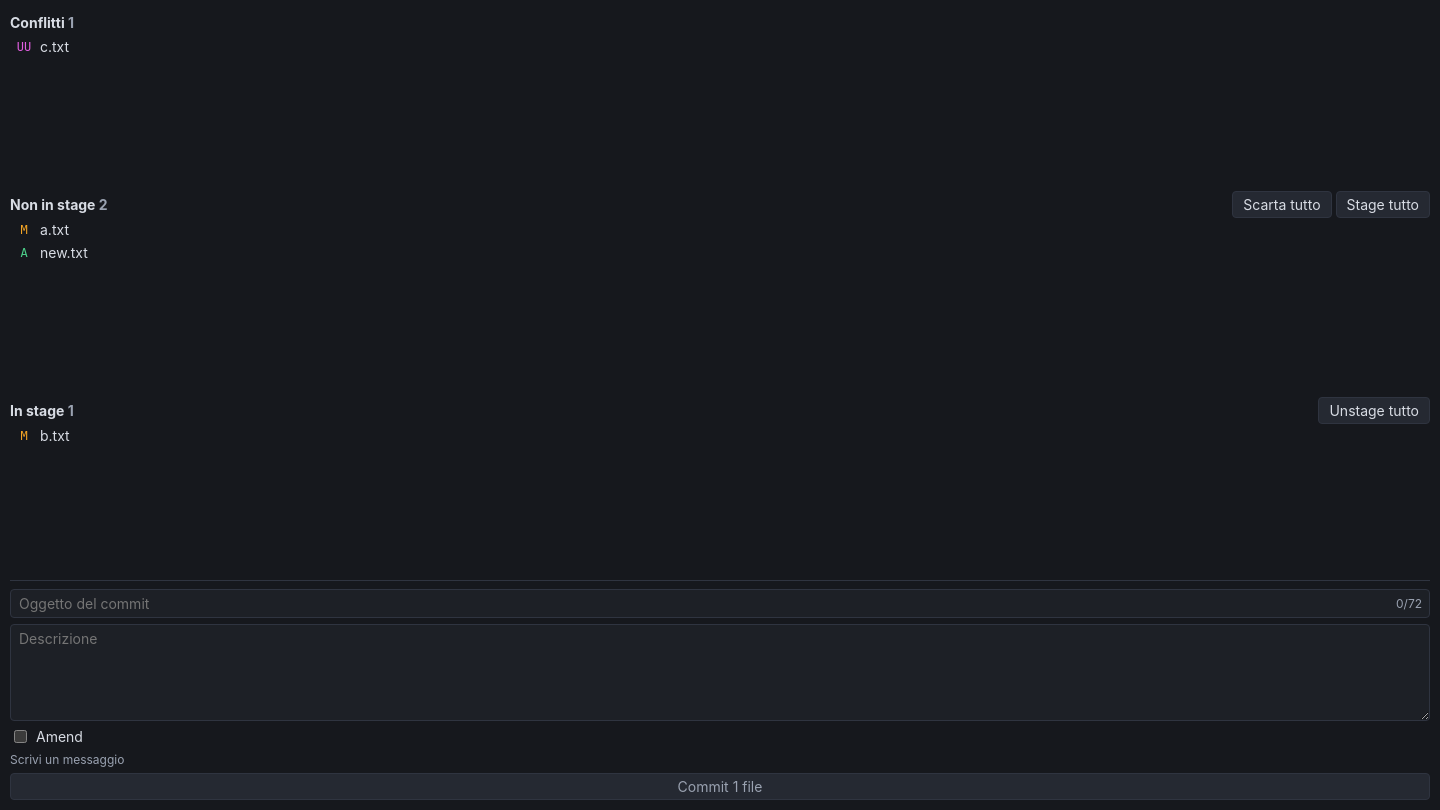
Test: WipPanel › commit is disabled without summary or staged files
The width and height of the screenshot is (1440, 810).
Check: the button "Commit 1 file" is disabled, box x1=10 y1=773 x2=1430 y2=800
Type "x" into the field labelled "Oggetto del commit" at (720, 604), box x1=10 y1=589 x2=1430 y2=618
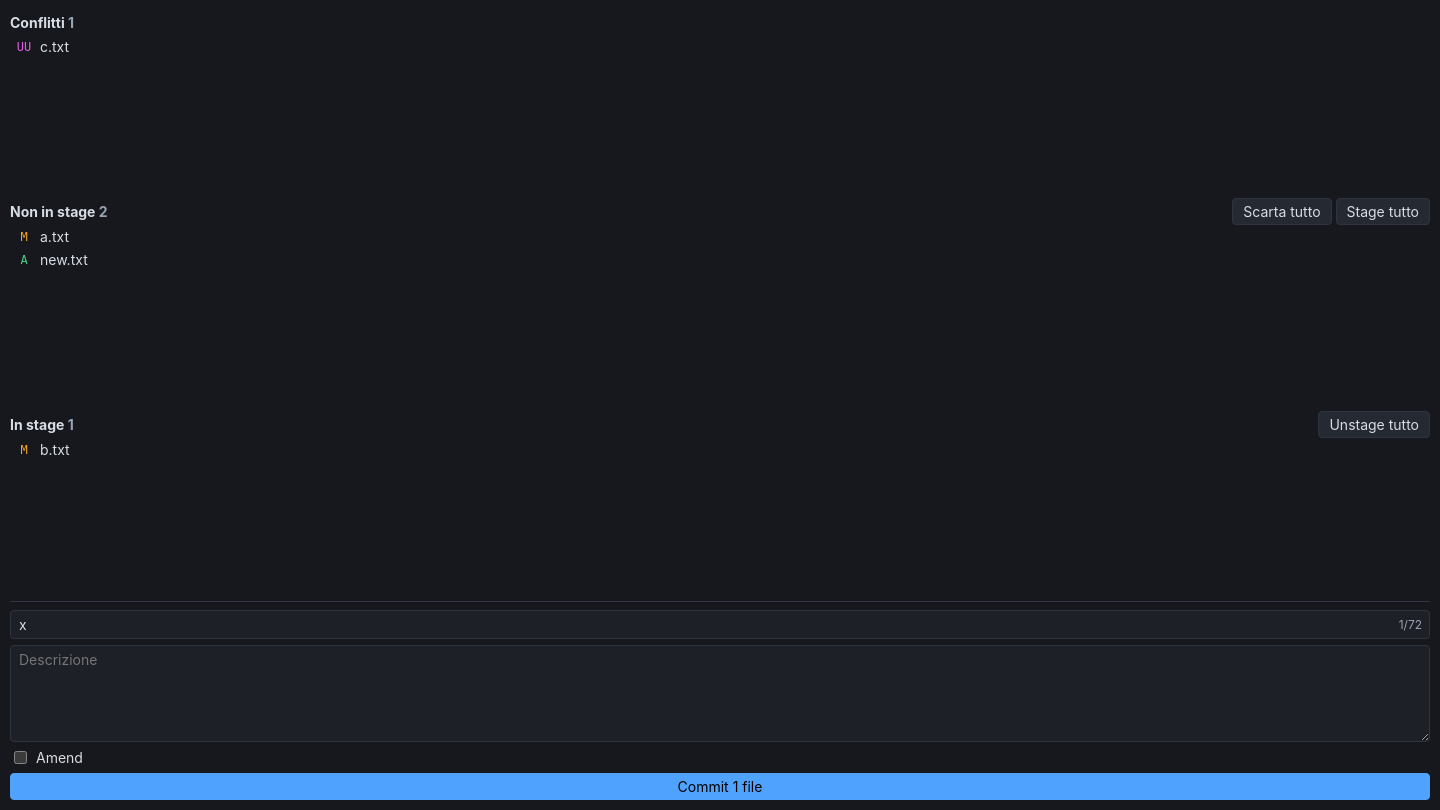
Check: the button "Commit 1 file" is enabled, box x1=10 y1=773 x2=1430 y2=800
